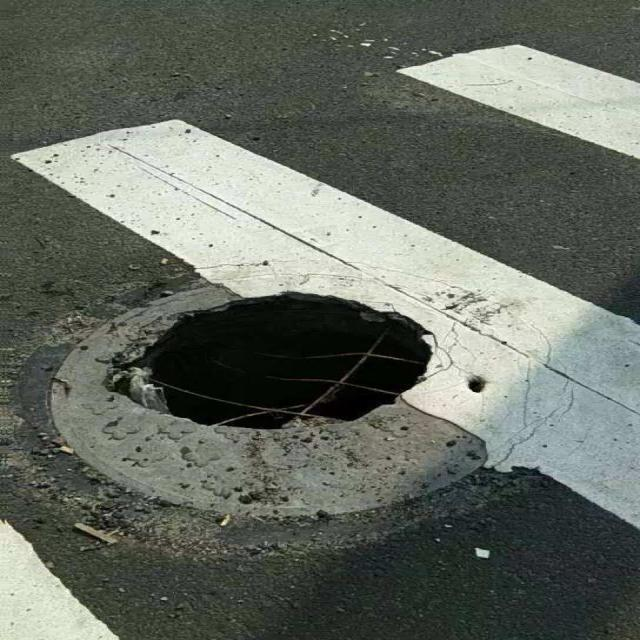manhole-cover: (21, 272, 580, 548)
